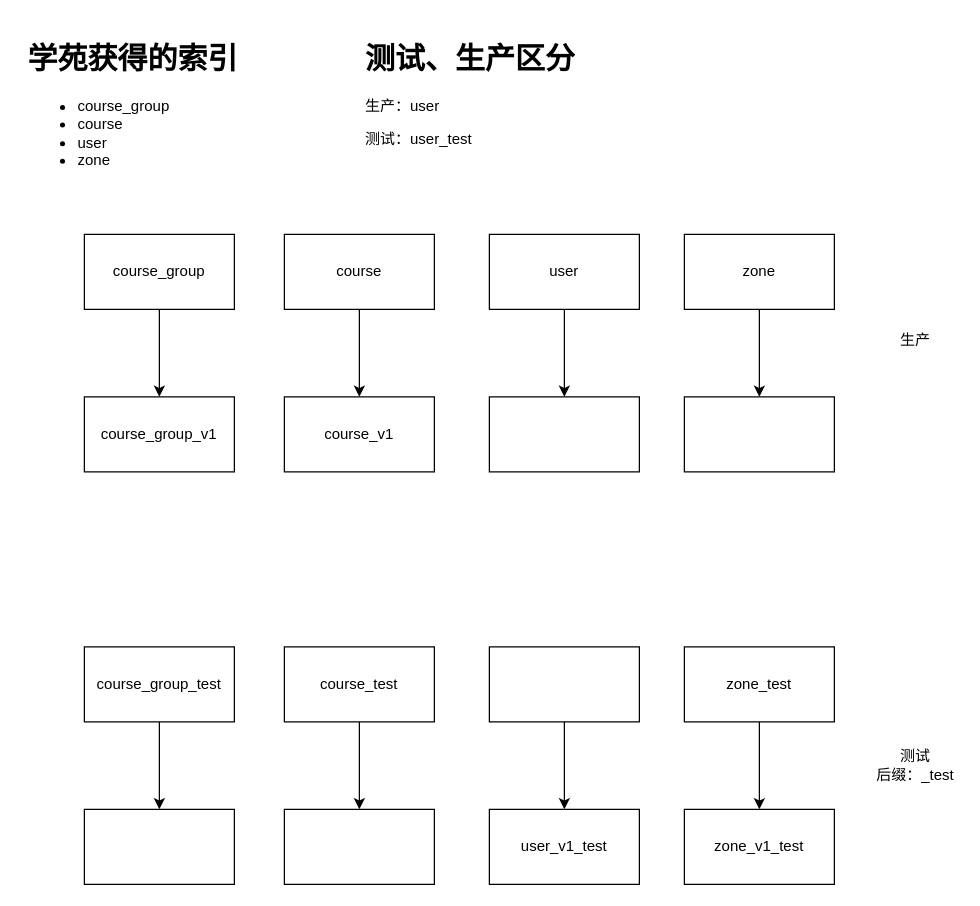
This 980x906 diagram has some shape labels left out. Here are the shapes that lost their labels. From the top down, the centre of each, then its label:
At pixel 563 434: "user_v1".
At pixel 758 434: "zone_v1".
At pixel 563 684: "user _test".
At pixel 158 846: "course_group_v1_test".
At pixel 358 846: "course_v1 _test".
